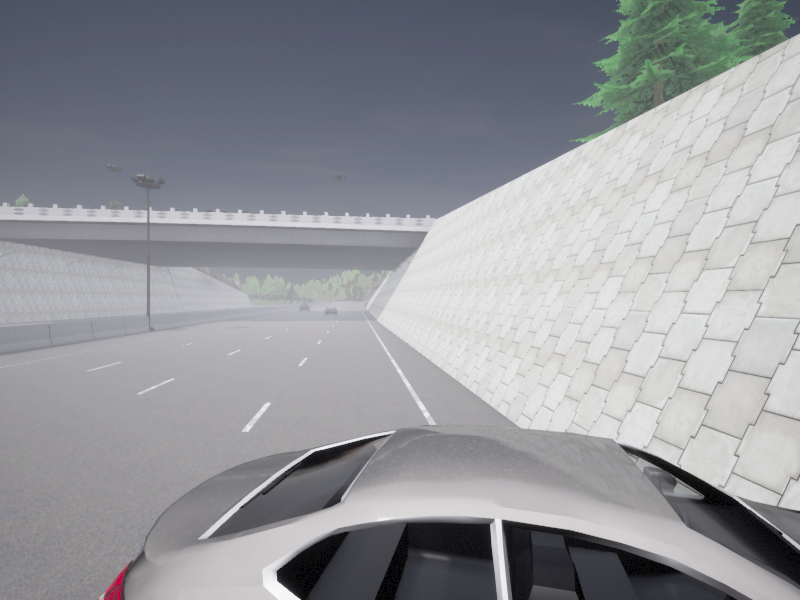vehicle: (97, 425, 799, 599), (325, 307, 337, 314), (299, 304, 309, 310)
